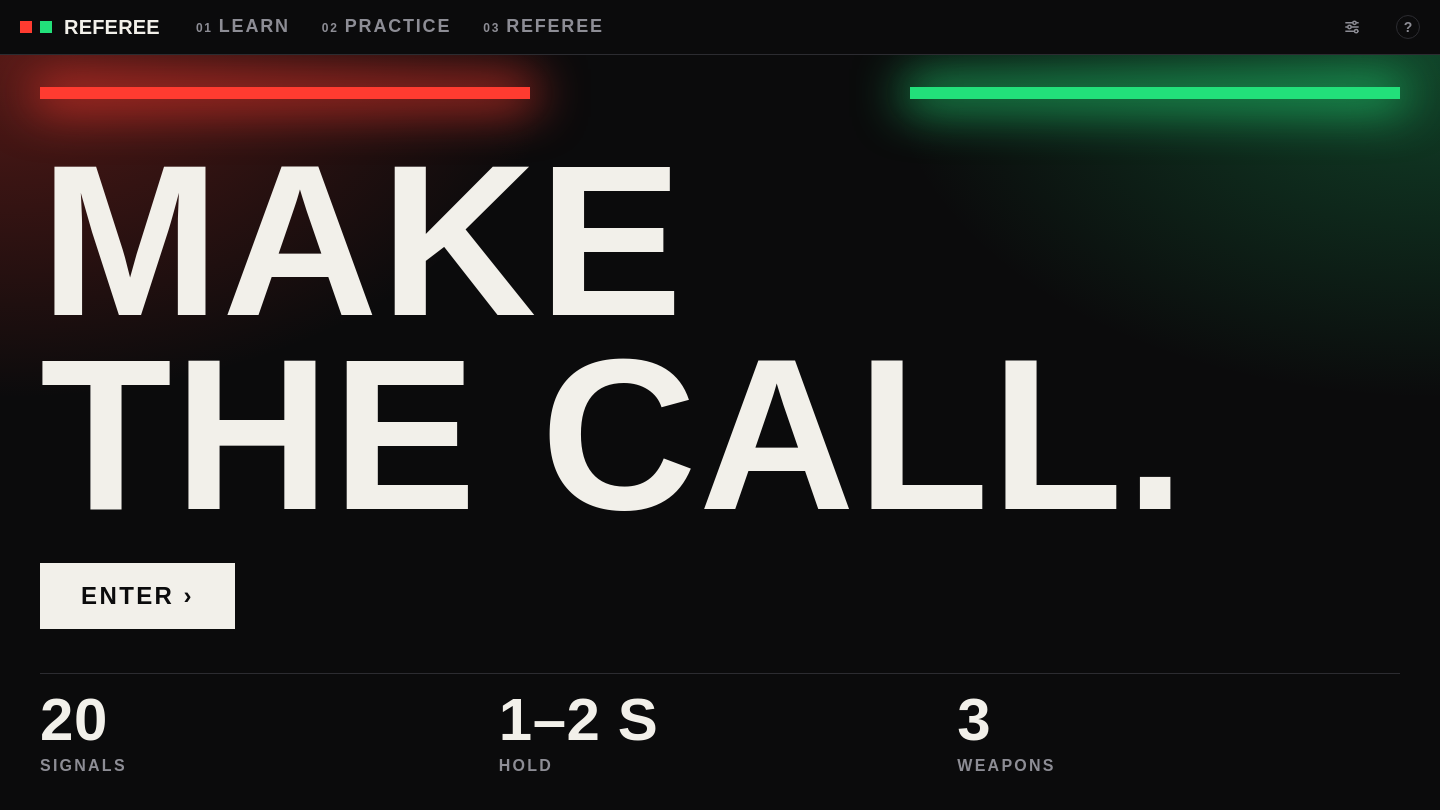
navigation › keeps the tuning pages behind the gear, with a way between them
This screenshot has width=1440, height=810.
Step 1. Click the link named "Tuning" → (1352, 27), box [1342,17,1362,37]
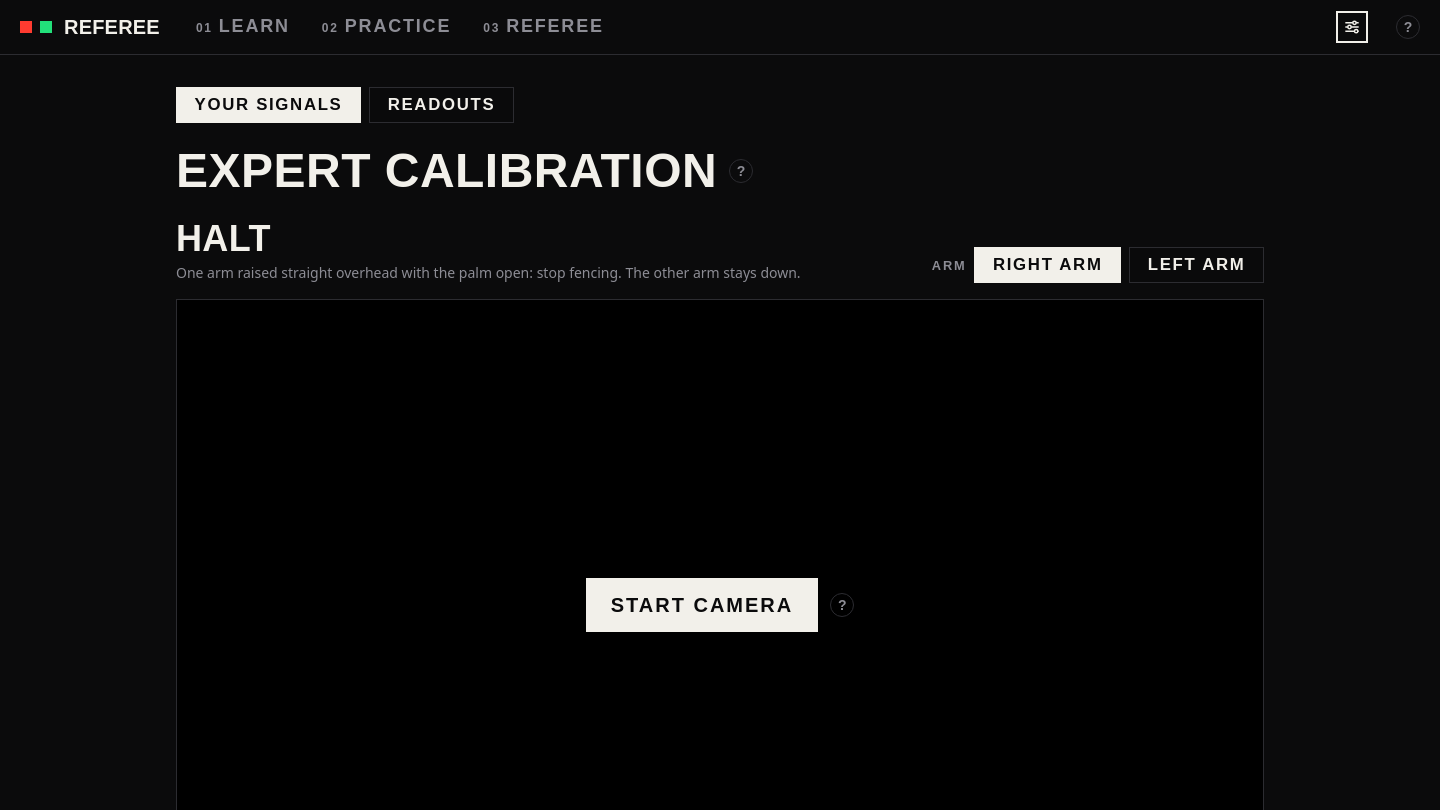
expect the heading "Expert calibration" is shown: met, box [176,147,717,195]
